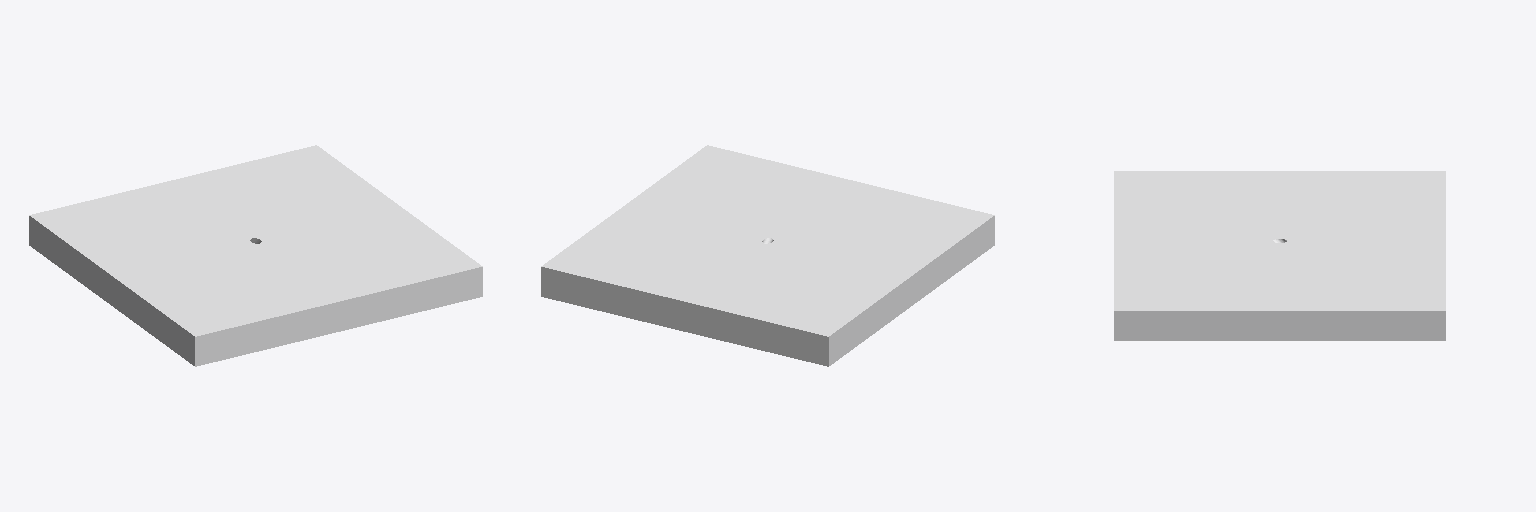
3 renders of one model, left to right at view 1: azimuth 30°, elevation 25°; view 2: azimuth 150°, elevation 25°; view 3: azimuth 270°, elevation 25°, orthographic.
Parts seen in each view (by area): view 1: 实体1; view 2: 实体1; view 3: 实体1.
Boxes of the visible parts, x1=… form: 实体1: x1=29, y1=145, x2=482, y2=366; 实体1: x1=541, y1=145, x2=994, y2=366; 实体1: x1=1114, y1=171, x2=1445, y2=340.
Size of the model in its own units: 0.1 by 0.01 by 0.1.